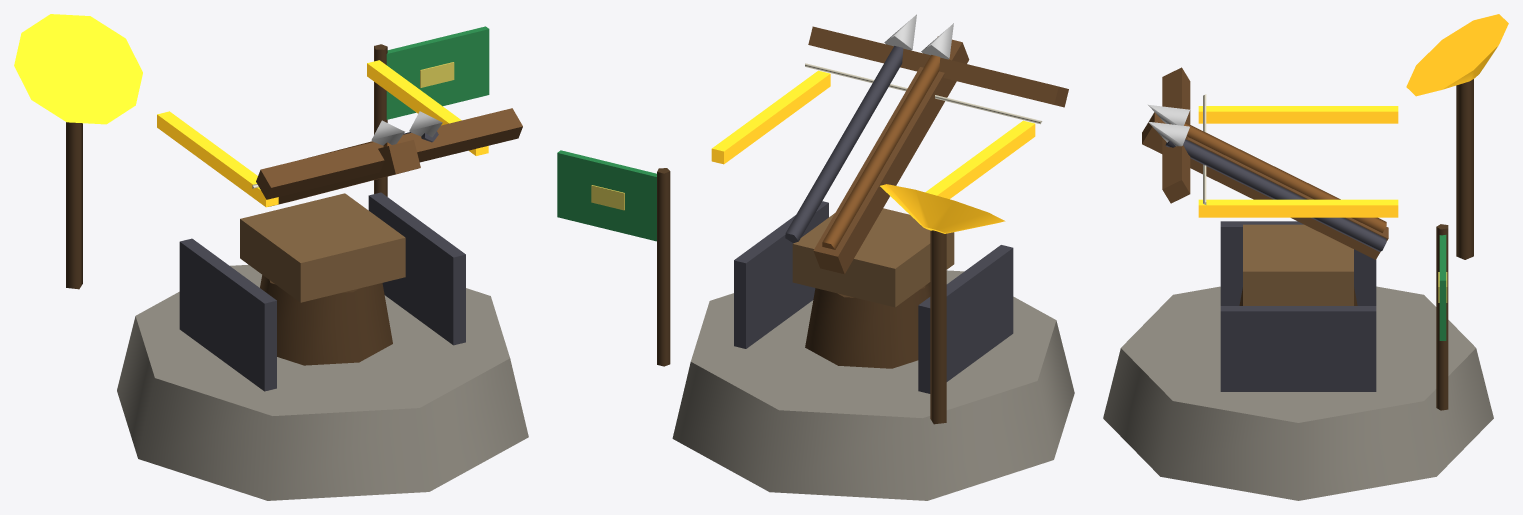
Rendered from level3.glb.
3 renders of one model, left to right at view 1: azimuth 30°, elevation 25°; view 2: azimuth 150°, elevation 25°; view 3: azimuth 270°, elevation 25°, orthographic. The views are drawn at different scales.
Parts seen in each view (by area): view 1: object 1, turret, object 10, object 7, object 2, object 8, object 5, object 9, object 4, object 6; view 2: object 1, turret, object 7, object 2, object 8, object 5, object 9, object 10, object 4, object 6; view 3: object 1, turret, object 8, object 10, object 7, object 9, object 4, object 5.
Boxes of the visible parts, <box> form: object 1: <box>117,264,528,500</box>; turret: <box>157,60,522,302</box>; object 10: <box>14,14,142,124</box>; object 7: <box>179,238,276,391</box>; object 2: <box>260,275,392,365</box>; object 8: <box>368,192,465,345</box>; object 5: <box>386,26,489,119</box>; object 9: <box>66,122,82,289</box>; object 4: <box>374,44,387,196</box>; object 6: <box>420,62,454,87</box>; object 1: <box>672,270,1074,500</box>; turret: <box>711,14,1068,307</box>; object 7: <box>918,245,1013,393</box>; object 2: <box>805,282,930,368</box>; object 8: <box>734,201,828,348</box>; object 5: <box>557,150,656,241</box>; object 9: <box>930,230,946,424</box>; object 10: <box>880,184,1005,233</box>; object 4: <box>657,168,670,366</box>; object 6: <box>591,185,624,210</box>; object 1: <box>1103,286,1493,500</box>; turret: <box>1142,67,1398,305</box>; object 8: <box>1220,306,1376,391</box>; object 10: <box>1406,14,1508,96</box>; object 7: <box>1220,221,1376,305</box>; object 9: <box>1456,79,1473,259</box>; object 4: <box>1436,224,1448,410</box>; object 5: <box>1439,235,1446,340</box>.
Bounding box in the file's own units: 2.44 × 1.81 × 2.05.
